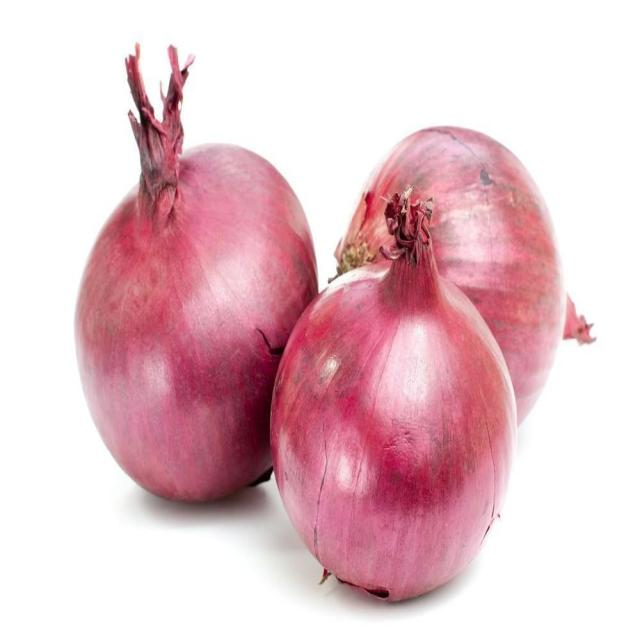Onion: (74, 41, 316, 499), (271, 191, 517, 603), (334, 122, 597, 426)
